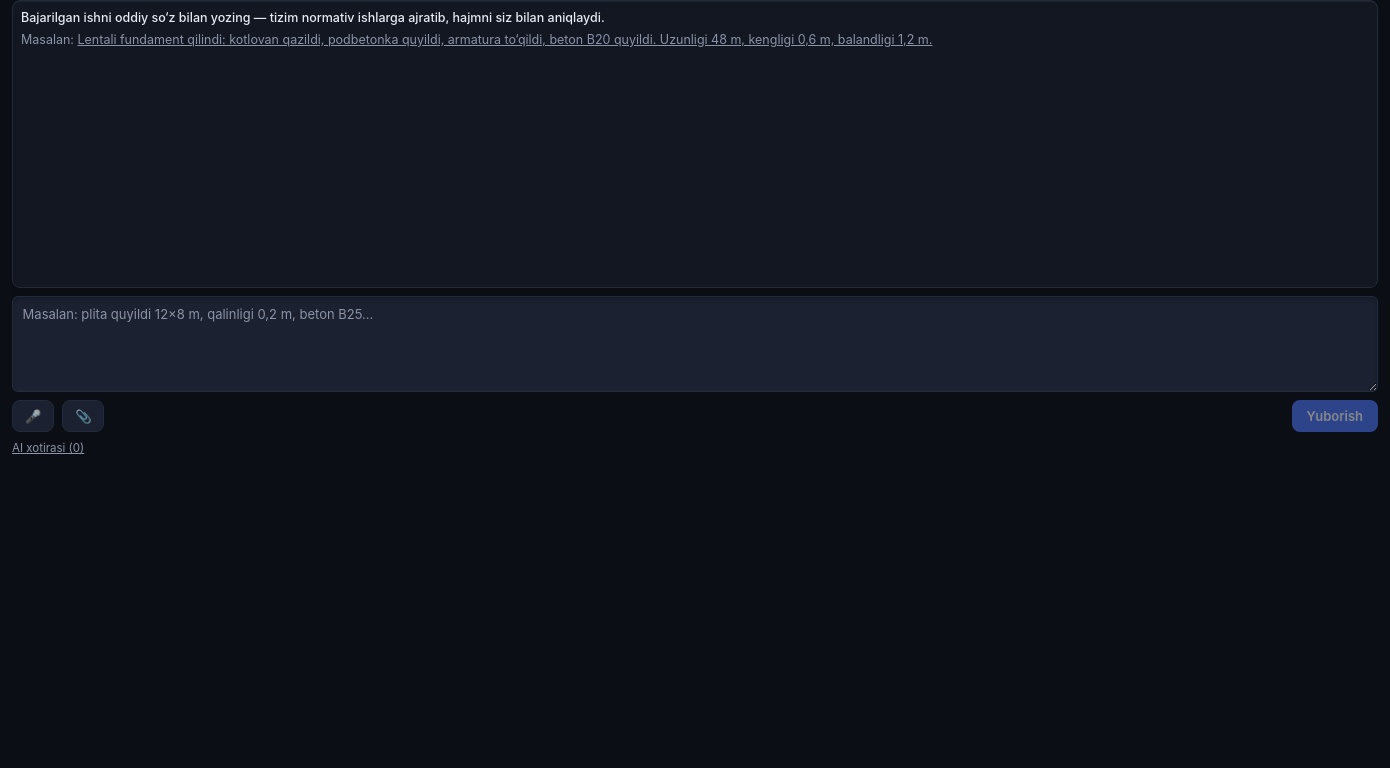
Scenario: a follow-up prose-only reply does not erase previously grounded works
Type "podbetonka 48×0,6×0,1" into the text box named "Smetachiga xabar" at (695, 344), box [12, 296, 1378, 392]
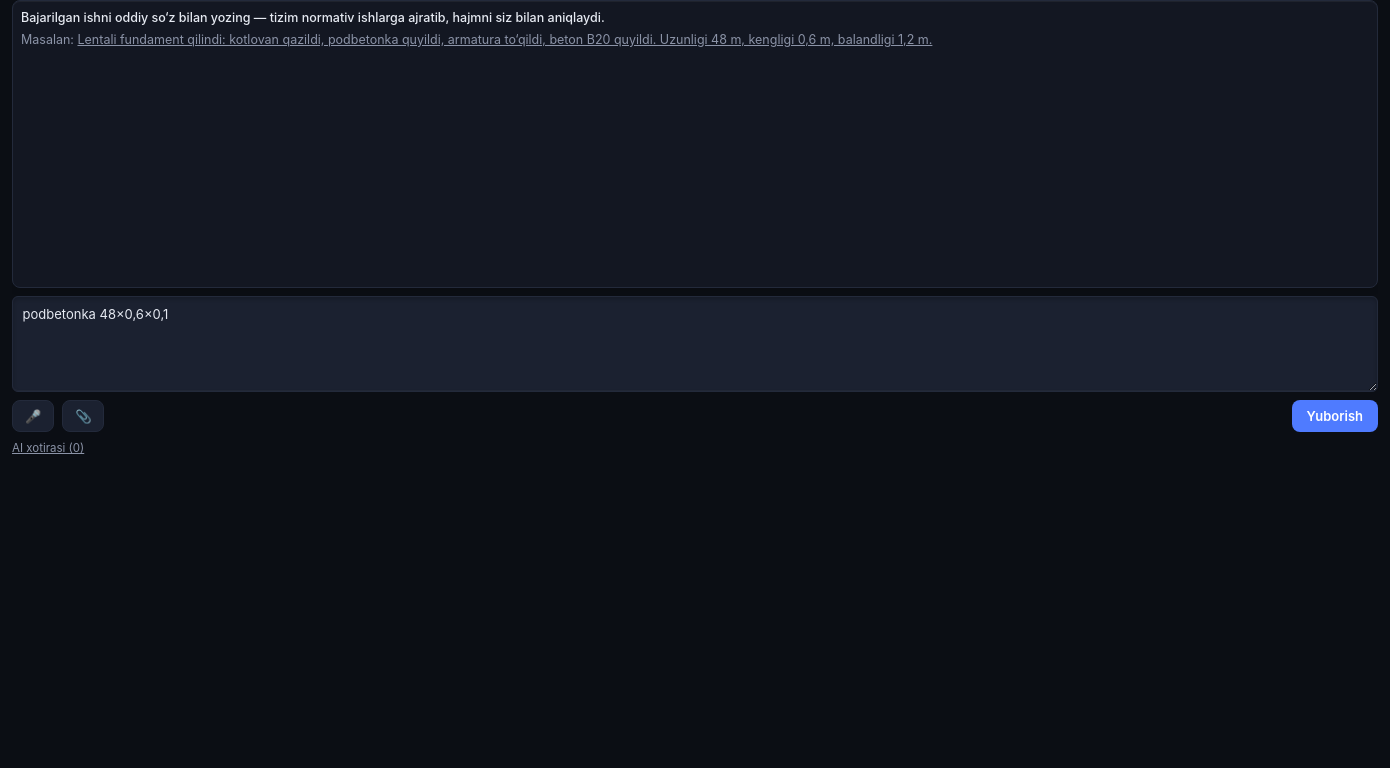
Click the button "Yuborish" at (1335, 416), box [1292, 400, 1378, 432]
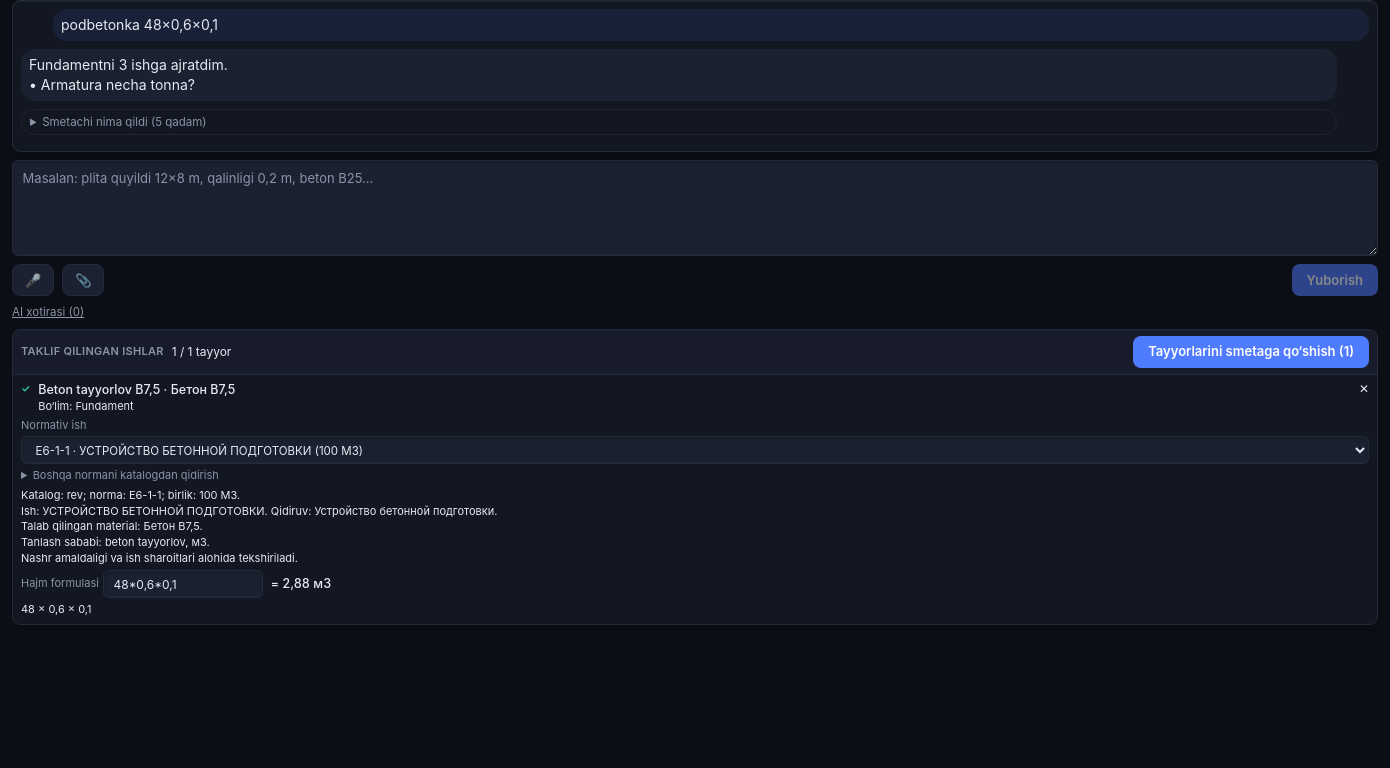
Now the field showing "48*0,6*0,1" is shown, box [103, 570, 263, 598]
Now the button "Yuborish" is disabled, box [1292, 264, 1378, 296]
Type "Qani smetani ber" into the text box named "Smetachiga xabar" at (695, 208), box [12, 160, 1378, 256]
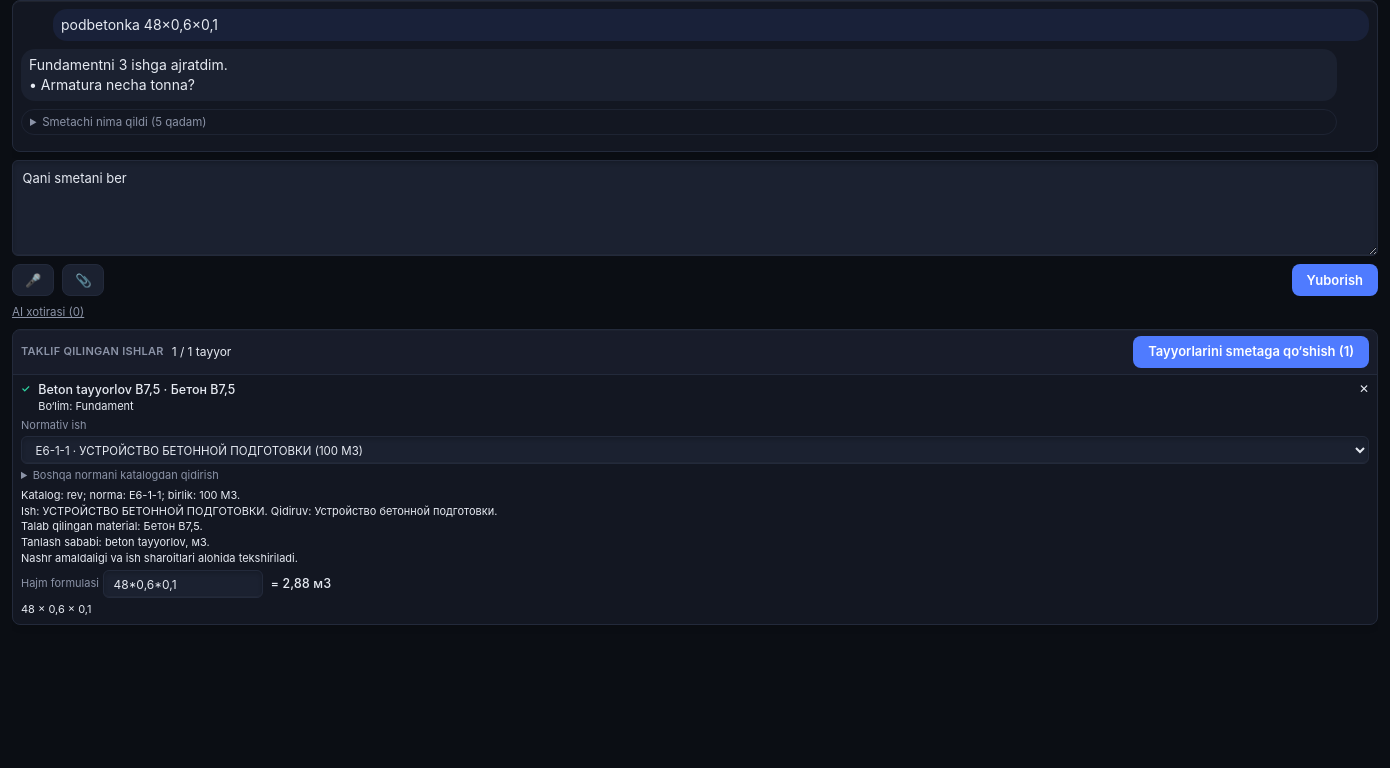
Click the button "Yuborish" at (1335, 280), box [1292, 264, 1378, 296]
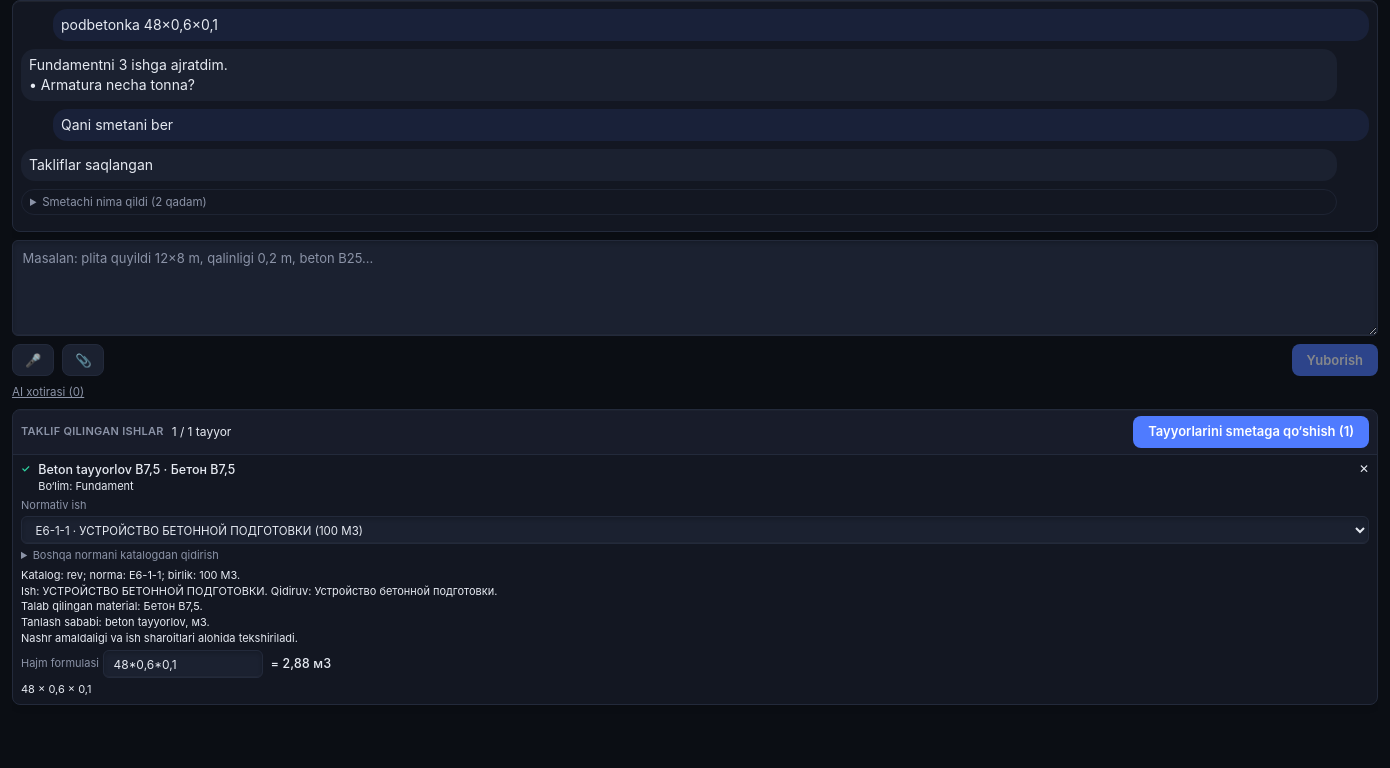
Now the field showing "48*0,6*0,1" is shown, box [103, 650, 263, 678]
Now the button "Tayyorlarini smetaga qo‘shish (1)" is shown, box [1133, 416, 1369, 448]
Now the text "Takliflar saqlangan" is shown, box [21, 149, 1337, 181]
